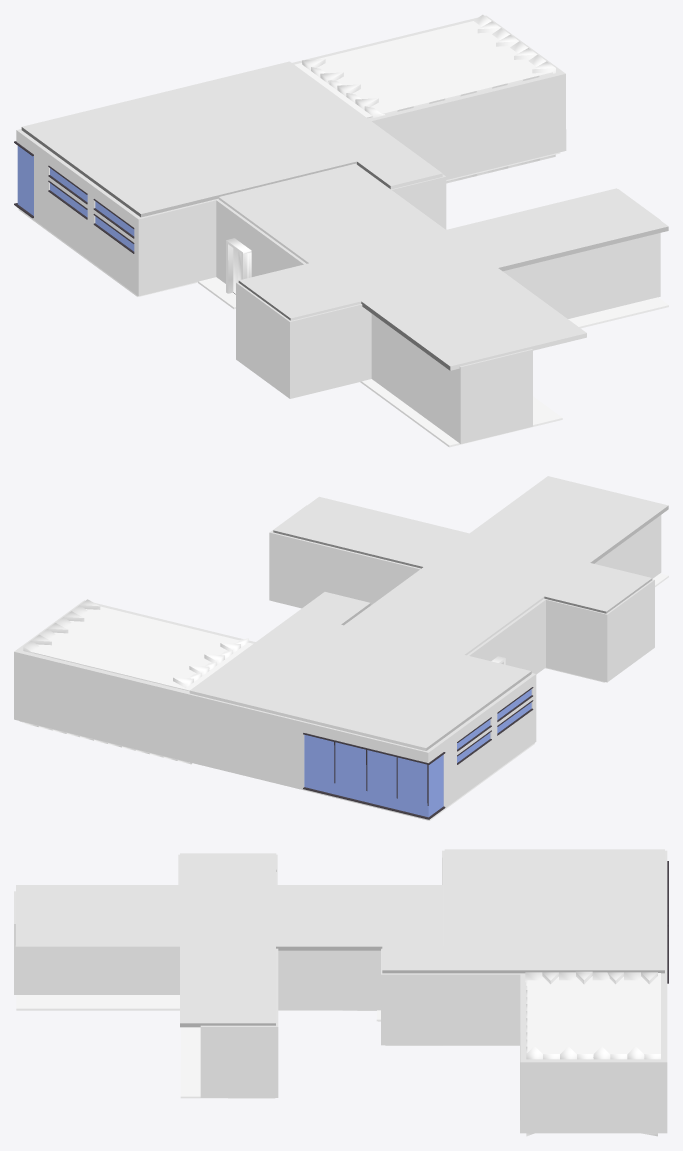
File: MeLAB.gltf
3 views of the same model, one above another, from view 1: azimuth 30°, elevation 25°; view 2: azimuth 150°, elevation 25°; view 3: azimuth 270°, elevation 25° (orthographic). The views are drawn at different scales.
Visible parts, largest first — view 1: Roof, Walls, Foam3, Floor, Foam2, Elevator, Foam1; view 2: Roof, Walls, Foam3, Foam2, Foam1, Floor; view 3: Roof, Walls, Foam3, Floor, Foam1, Foam2.
Part boxes in pixels (box(x1,y1,x2,y2)): Roof: box(21, 61, 668, 370); Walls: box(14, 15, 660, 443); Foam3: box(294, 21, 552, 118); Floor: box(18, 152, 668, 447); Foam2: box(474, 14, 555, 73); Elevator: box(226, 238, 251, 294); Foam1: box(302, 59, 385, 117); Roof: box(189, 476, 668, 750); Walls: box(14, 505, 661, 820); Foam3: box(32, 606, 253, 691); Foam2: box(23, 599, 100, 653); Foam1: box(173, 638, 248, 687); Floor: box(19, 573, 668, 820); Roof: box(15, 849, 664, 1027); Walls: box(14, 850, 668, 1133); Foam3: box(527, 973, 660, 1053); Floor: box(16, 995, 519, 1098); Foam1: box(525, 971, 657, 985); Foam2: box(526, 1046, 660, 1059).
Bounding box in the file's own units: 22.68 × 4.11 × 29.57.
